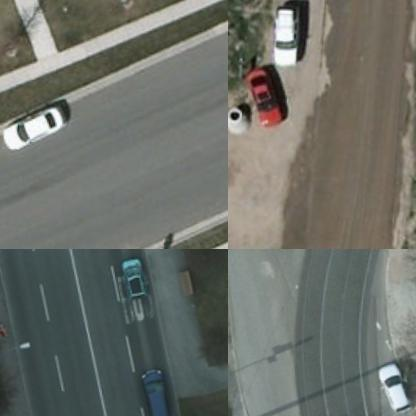car: (0, 98, 70, 151), (240, 66, 292, 126), (269, 0, 306, 65), (139, 361, 179, 415), (378, 354, 413, 410), (120, 254, 151, 299)
